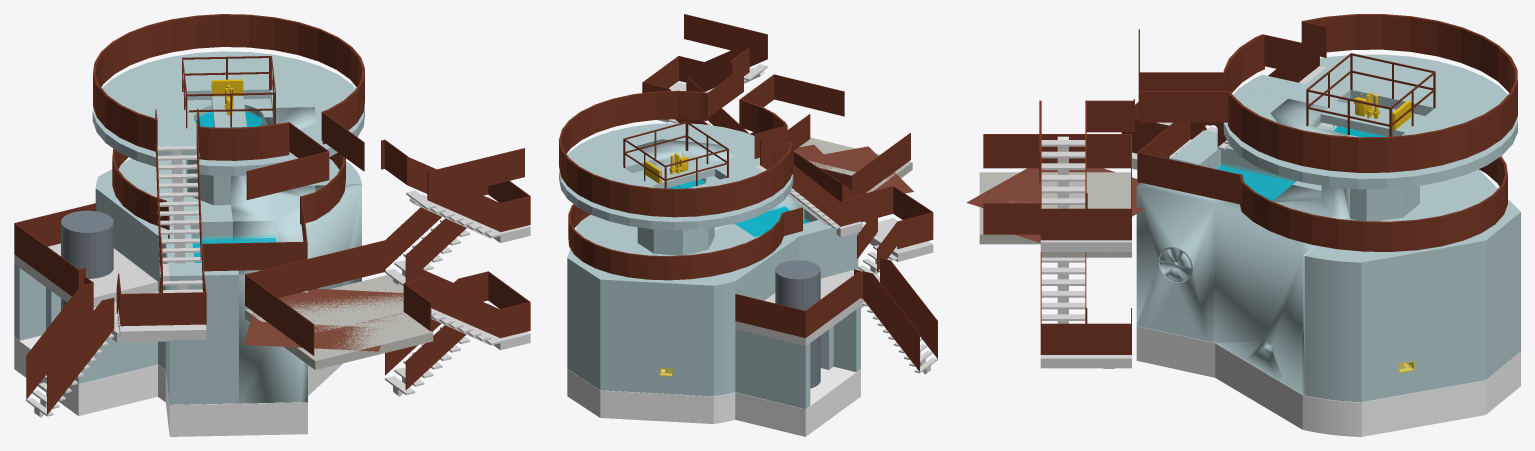
The model's file is teras-reaktor.glb.
3 renders of one model, left to right at view 1: azimuth 30°, elevation 25°; view 2: azimuth 150°, elevation 25°; view 3: azimuth 270°, elevation 25°, orthographic. The views are drawn at different scales.
Parts seen in each view (by area): view 1: Cube.368, 02_Bulk_Shielding_Luar.003, Potongan, Cube.413, 01_Pondasi_Reaktor.001, 03_Bulk_Shielding_Dalam.001, Cylinder, Cube.367, Cube.002, Cube.510, Cylinder.005, Cube.507 (+6 smaller); view 2: Cube.368, 02_Bulk_Shielding_Luar.003, 01_Pondasi_Reaktor.001, 03_Bulk_Shielding_Dalam.001, Cylinder, Cube.510, Cube.413, Cylinder.005, Cylinder.008, Potongan, Cube.002, Cube.576 (+6 smaller); view 3: Cube.368, 02_Bulk_Shielding_Luar.003, Potongan, 01_Pondasi_Reaktor.001, Cylinder, 03_Bulk_Shielding_Dalam.001, Cube.413, Cube.367, Cylinder.008, Cube.576, Cube.002, Plane.002 (+4 smaller).
Boxes of the visible parts, bbox=[...] form: Cube.368: bbox=[26, 14, 530, 414]; 02_Bulk_Shielding_Luar.003: bbox=[14, 158, 361, 404]; Potongan: bbox=[231, 107, 361, 403]; Cube.413: bbox=[26, 146, 530, 417]; 01_Pondasi_Reaktor.001: bbox=[14, 335, 342, 436]; 03_Bulk_Shielding_Dalam.001: bbox=[141, 71, 314, 254]; Cylinder: bbox=[92, 51, 364, 175]; Cube.367: bbox=[245, 275, 433, 369]; Cube.002: bbox=[244, 288, 403, 351]; Cube.510: bbox=[14, 203, 96, 296]; Cylinder.005: bbox=[61, 210, 113, 310]; Cube.507: bbox=[14, 243, 158, 306]; Cube.368: bbox=[559, 14, 937, 371]; 02_Bulk_Shielding_Luar.003: bbox=[567, 209, 860, 409]; 01_Pondasi_Reaktor.001: bbox=[567, 366, 860, 436]; 03_Bulk_Shielding_Dalam.001: bbox=[598, 147, 754, 256]; Cylinder: bbox=[559, 131, 793, 230]; Cube.510: bbox=[735, 269, 860, 337]; Cube.413: bbox=[658, 64, 937, 374]; Cylinder.005: bbox=[775, 260, 820, 388]; Cylinder.008: bbox=[613, 123, 754, 155]; Potongan: bbox=[636, 139, 804, 229]; Cube.002: bbox=[793, 144, 913, 193]; Cube.576: bbox=[623, 121, 728, 188]; Cube.368: bbox=[983, 14, 1517, 354]; 02_Bulk_Shielding_Luar.003: bbox=[1171, 130, 1520, 402]; Potongan: bbox=[1136, 99, 1370, 395]; 01_Pondasi_Reaktor.001: bbox=[1136, 326, 1520, 436]; Cylinder: bbox=[1240, 54, 1517, 189]; 03_Bulk_Shielding_Dalam.001: bbox=[1288, 74, 1471, 221]; Cube.413: bbox=[1040, 65, 1326, 368]; Cube.367: bbox=[979, 172, 1131, 257]; Cylinder.008: bbox=[1223, 88, 1308, 182]; Cube.576: bbox=[1306, 53, 1435, 136]; Cube.002: bbox=[966, 168, 1145, 242]; Plane.002: bbox=[1214, 163, 1295, 200].
Size of the model in its own units: 12.88 by 8.68 by 14.55.
